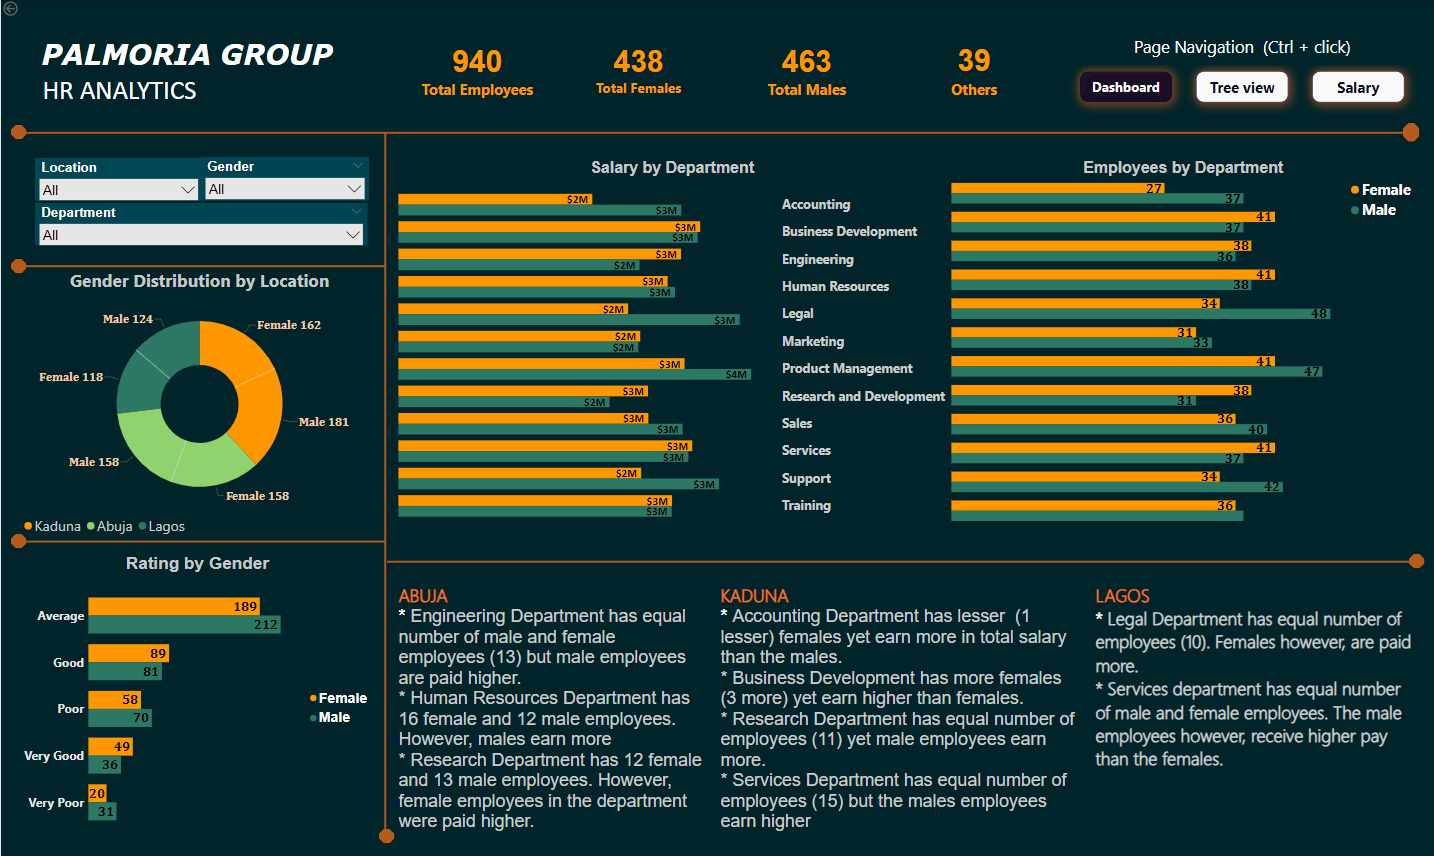

What the dashboard file says about the page in this screenshot:
{"tool":"powerbi","page":{"name":"Dashboard","canvas":[3000,1800],"ordinal":0},"visuals":[{"type":"shape","box":[40.5,1125.6,766,31.9],"z":0},{"type":"textbox","box":[79.8,72.9,681.6,92],"z":1000,"group":"g1"},{"type":"shape","box":[797.9,280.4,13.7,1486.3],"z":1000},{"type":"textbox","box":[81.1,150.8,374.5,79.4],"z":2000,"group":"g1"},{"type":"clusteredBarChart","title":"Salary by Department","fields":{"Category":["Data.Department"],"Series":["Data.Gender"],"Y":["Sum(Data.Net Salary)"]},"box":[827.5,335.1,1155.8,777.4],"z":2000},{"type":"card","fields":{"Values":["Data.Total Employee"]},"box":[827.5,31.9,339.7,228],"z":3000},{"type":"clusteredBarChart","title":"Rating by Gender","fields":{"Category":["Data.Rating"],"Series":["Data.Gender"],"Y":["CountNonNull(Data.Name)"]},"box":[41,1160.3,738.6,606.4],"z":4000},{"type":"pageNavigator","title":"Page Navigation  (Ctrl + click)","box":[2234,75.2,729.5,166.4],"z":5000},{"type":"card","fields":{"Values":["Data.Total Females"]},"box":[1167.2,27.4,332.8,232.5],"z":6000},{"type":"slicer","fields":{"Values":["Data.Location"]},"box":[70.8,331.6,351.2,89.4],"z":6000,"group":"g2"},{"type":"card","fields":{"Values":["Data.Total Males"]},"box":[1500,31.9,371.6,228],"z":7000},{"type":"slicer","fields":{"Values":["Data.Gender"]},"box":[417.8,330.5,351.7,91.2],"z":8000,"group":"g2"},{"type":"clusteredBarChart","title":"Employees by Department","fields":{"Category":["Data.Department"],"Series":["Data.Gender"],"Y":["CountNonNull(Data.Name)"]},"box":[1984.2,334.9,979.5,776.5],"z":8000},{"type":"donutChart","title":"Gender Distribution by Location","fields":{"Category":["Data.Location"],"Y":["Data.Total Employees"],"Series":["Data.Gender"]},"box":[39.7,560.8,751.3,566.1],"z":9000},{"type":"group","id":"g1","title":"Group 5","box":[79.8,72.9,681.6,157.3],"z":10000},{"type":"slicer","fields":{"Values":["Data.Department"]},"box":[70.7,426.2,696.4,88.9],"z":10000,"group":"g2"},{"type":"card","fields":{"Values":["BAND.Others"]},"box":[1871.6,31.9,330.5,225.7],"z":11000},{"type":"textbox","box":[827.5,1215,647.4,551.7],"z":12000},{"type":"textbox","box":[2286.5,1215,677.1,517.5],"z":13000},{"type":"textbox","box":[1500,1215,756.8,551.7],"z":14000},{"type":"shape","box":[807,1160.3,2161.1,36.5],"z":15000},{"type":"group","id":"g2","title":"Group 1","box":[70.7,330.5,699.8,184.7],"z":16000},{"type":"shape","box":[20.5,264.4,31.9,29.6],"z":17000},{"type":"shape","box":[2933.9,259.9,34.2,38.8],"z":18000},{"type":"shape","box":[43.3,271.3,2920.2,16],"z":19000},{"type":"shape","box":[35.4,525.8,768.2,34.2],"z":20000},{"type":"shape","box":[19.4,528.1,31.9,29.6],"z":21000},{"type":"shape","box":[22.2,1125.6,31.9,29.6],"z":22000},{"type":"shape","box":[791,1737.1,31.9,29.6],"z":23000},{"type":"shape","box":[2947.6,1162.6,31.9,29.6],"z":24000}]}

Visuals, with their boxes in screenshot pixels (x1, y1, x2, y2), scaled from the page's 3000x1800 canvas onto the 1434x856 screenshot:
shape: <box>19,535,386,550</box>
textbox: <box>38,35,364,78</box>
shape: <box>381,133,388,840</box>
textbox: <box>39,72,218,109</box>
"Salary by Department" clusteredBarChart: <box>396,159,948,529</box>
card - Data.Total Employee: <box>396,15,558,124</box>
"Rating by Gender" clusteredBarChart: <box>20,552,373,840</box>
"Page Navigation  (Ctrl + click)" pageNavigator: <box>1068,36,1417,115</box>
card - Data.Total Females: <box>558,13,717,124</box>
slicer - Data.Location: <box>34,158,202,200</box>
card - Data.Total Males: <box>717,15,895,124</box>
slicer - Data.Gender: <box>200,157,368,201</box>
"Employees by Department" clusteredBarChart: <box>948,159,1417,529</box>
"Gender Distribution by Location" donutChart: <box>19,267,378,536</box>
"Group 5" group: <box>38,35,364,109</box>
slicer - Data.Department: <box>34,203,367,245</box>
card - BAND.Others: <box>895,15,1053,123</box>
textbox: <box>396,578,705,840</box>
textbox: <box>1093,578,1417,824</box>
textbox: <box>717,578,1079,840</box>
shape: <box>386,552,1419,569</box>
"Group 1" group: <box>34,157,368,245</box>
shape: <box>10,126,25,140</box>
shape: <box>1402,124,1419,142</box>
shape: <box>21,129,1417,137</box>
shape: <box>17,250,384,266</box>
shape: <box>9,251,25,265</box>
shape: <box>11,535,26,549</box>
shape: <box>378,826,393,840</box>
shape: <box>1409,553,1424,567</box>
